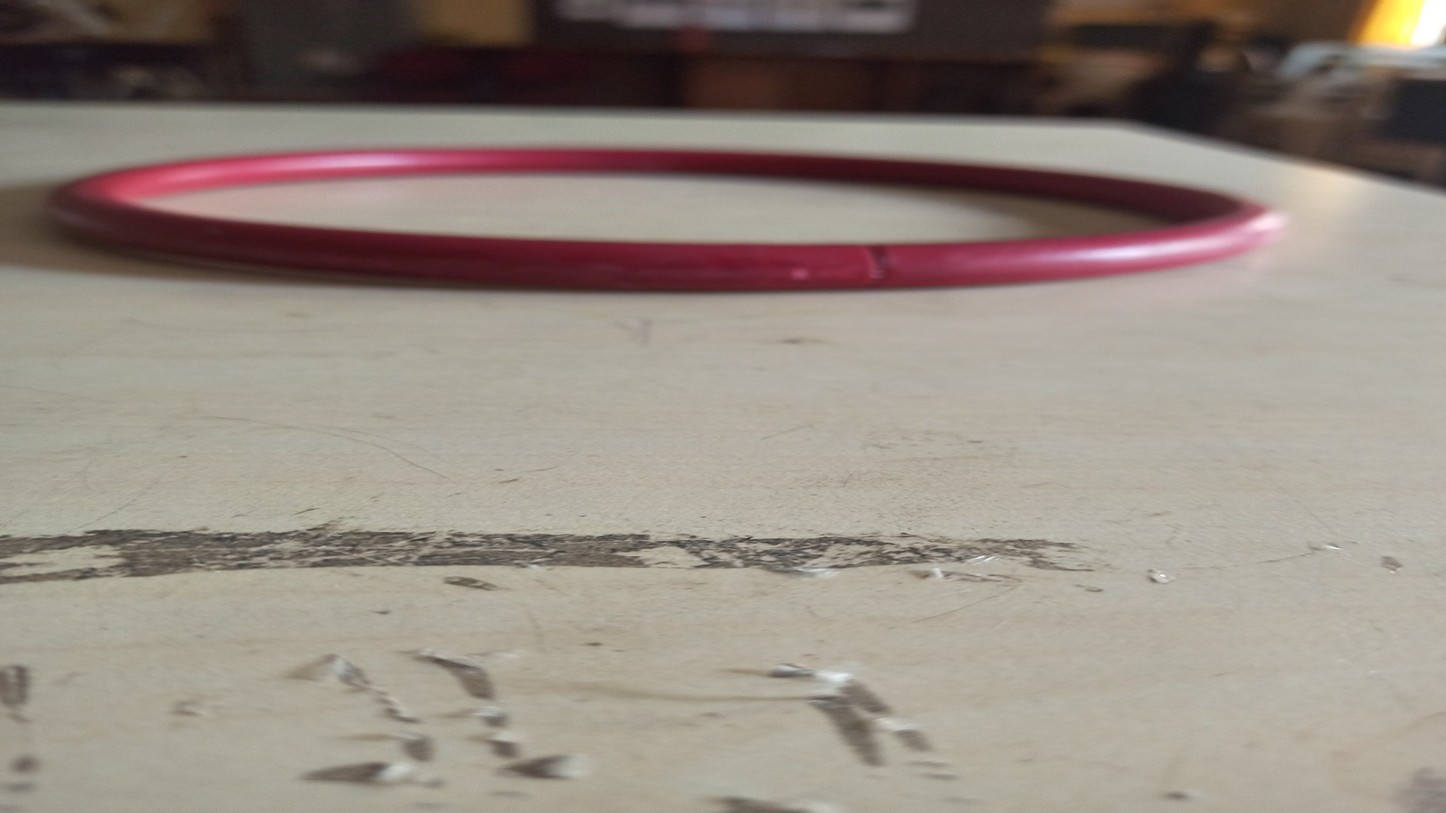Red ring: (56, 148, 1289, 294)
